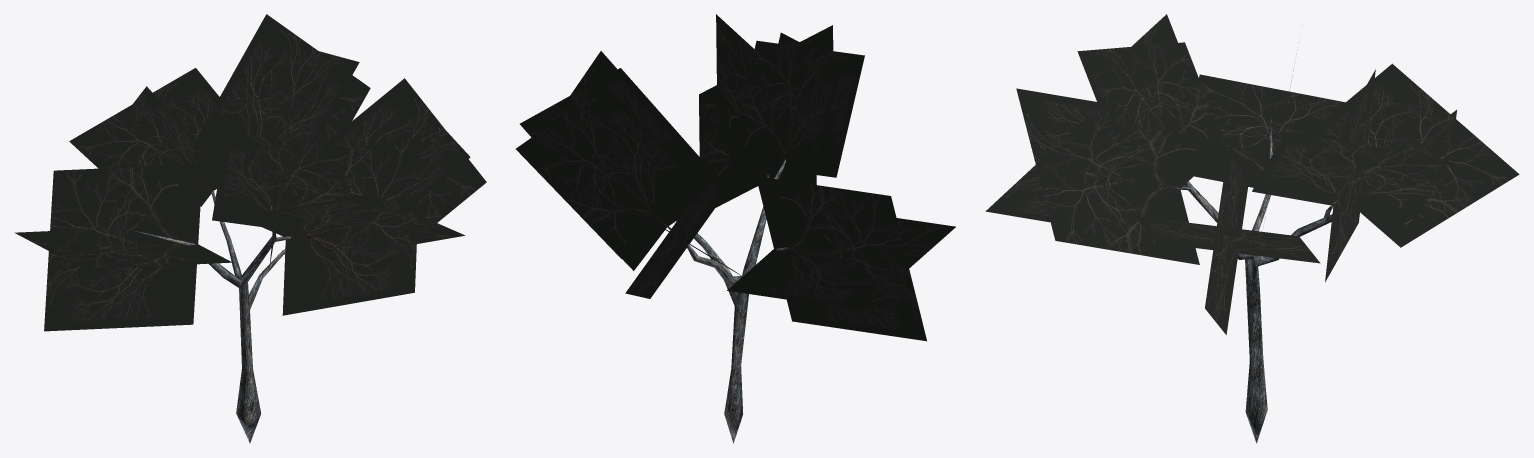
File: decd_scorched_tallbirch_l1.fbx
3 renders of one model, left to right at view 1: azimuth 30°, elevation 25°; view 2: azimuth 150°, elevation 25°; view 3: azimuth 270°, elevation 25°, orthographic. The views are drawn at different scales.
Parts seen in each view (by area): view 1: mesh_node; view 2: mesh_node; view 3: mesh_node.
Part boxes in pixels (<box>): mesh_node: <box>14,14,486,443</box>; mesh_node: <box>516,14,955,443</box>; mesh_node: <box>985,14,1519,443</box>.
Size of the model in its own units: 66.69 by 57.89 by 67.86.
